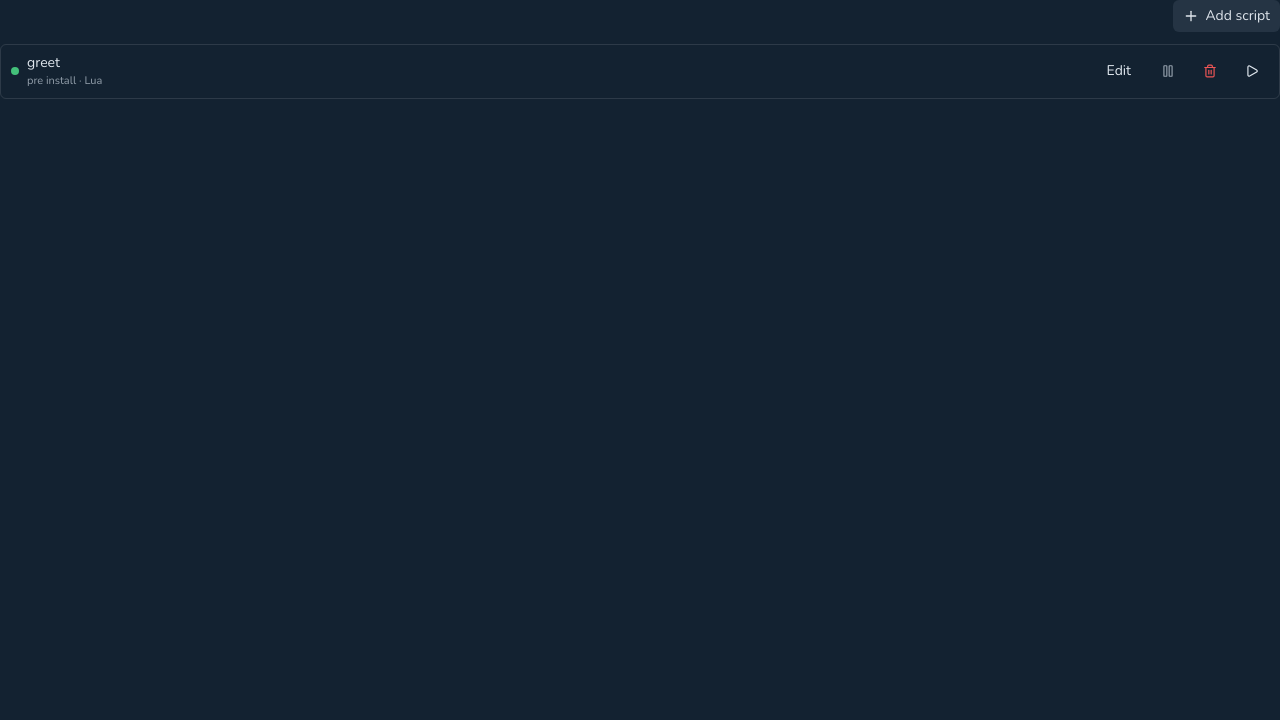
Test: ModHooksEditor › closes and reopens the console from its own button
Click the button "Edit": x=1119, y=71 left=1095, top=55, right=1143, bottom=87
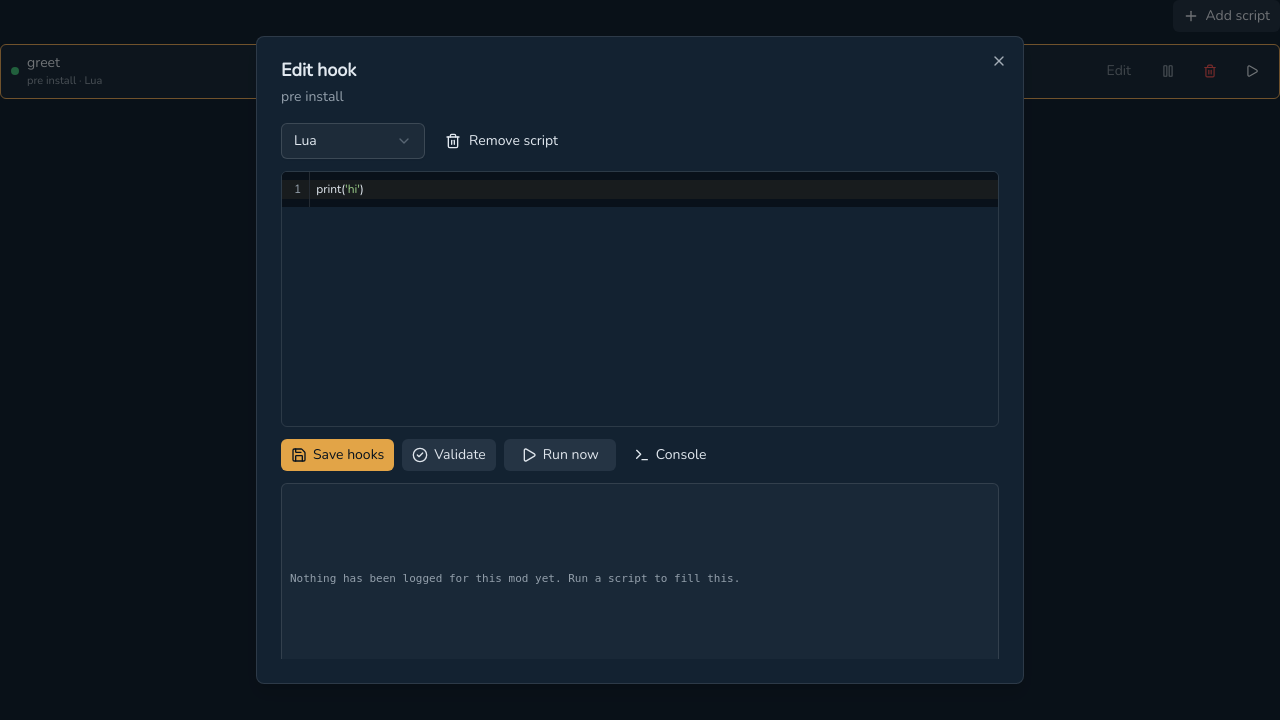
Click the button "Console": x=670, y=455 left=624, top=439, right=716, bottom=471
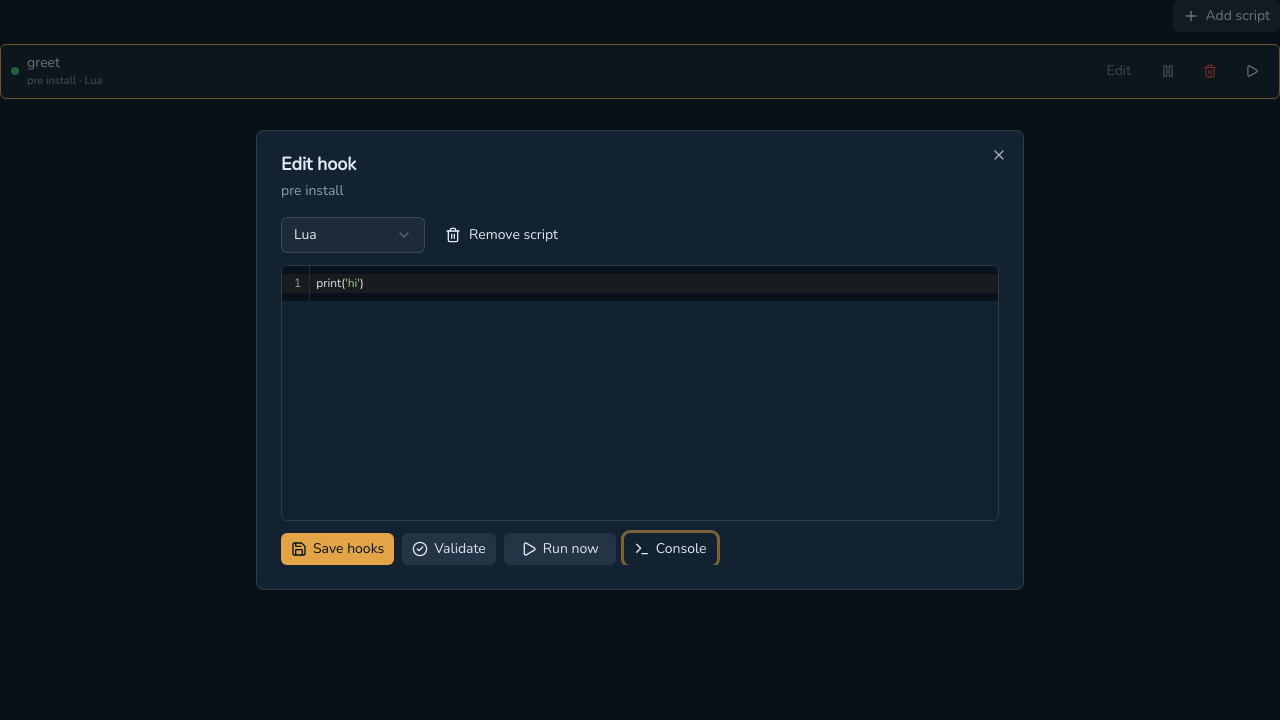
Expected: the text "Nothing has been logged for this mod yet. Run a script to fill this." is gone
Click the button "Console": x=670, y=549 left=624, top=533, right=716, bottom=565
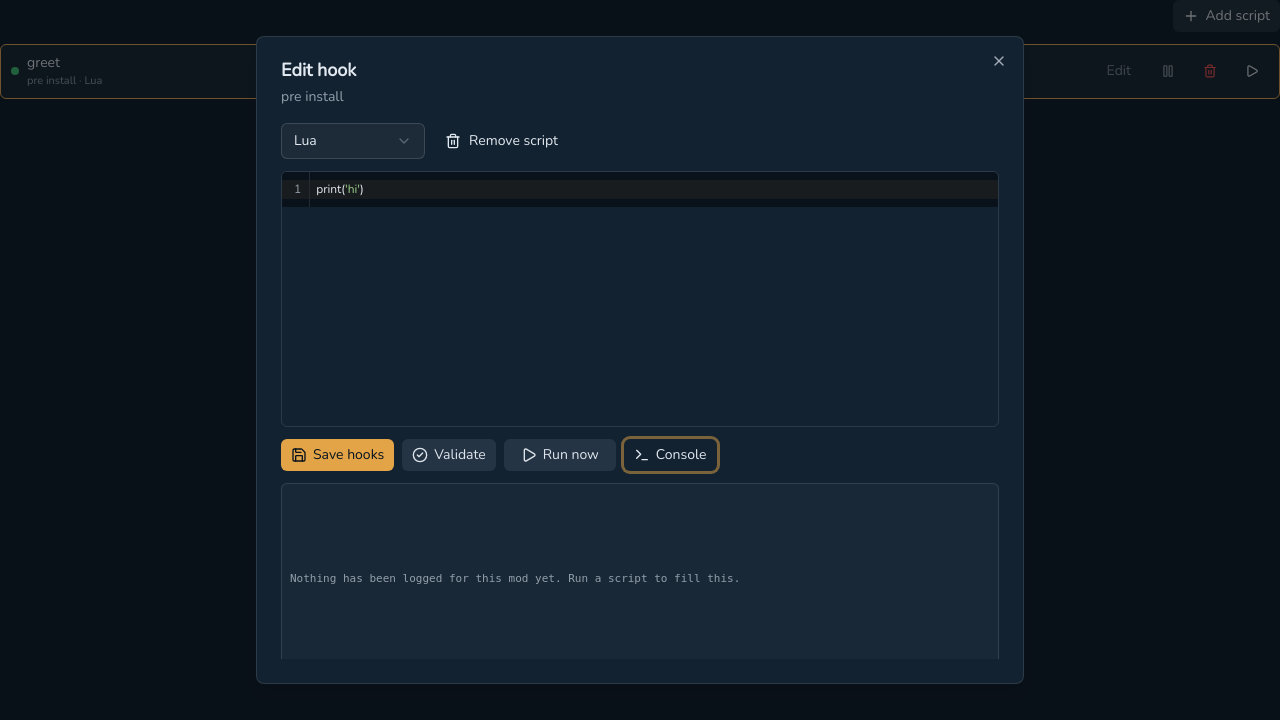
Expected: the text "Nothing has been logged for this mod yet. Run a script to fill this." is shown, left=290, top=570, right=740, bottom=588
